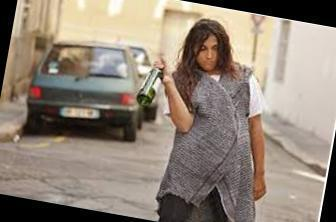Drunk: (197, 35, 219, 71)
